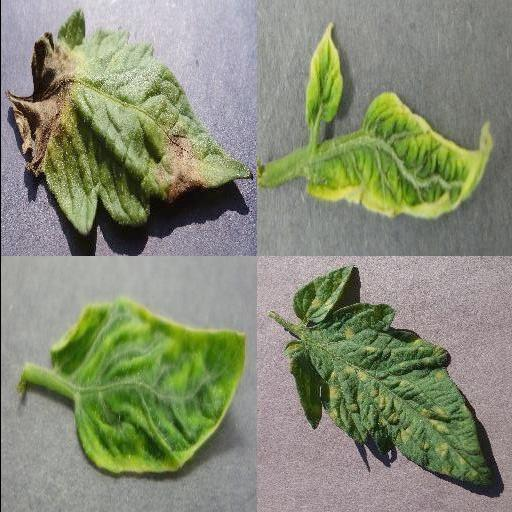Late Blight: (8, 6, 254, 236)
Leaf Mold: (282, 268, 490, 484)
Yellow Leaf Curl Virus: (49, 299, 247, 473), (305, 92, 493, 220), (302, 21, 344, 121)
